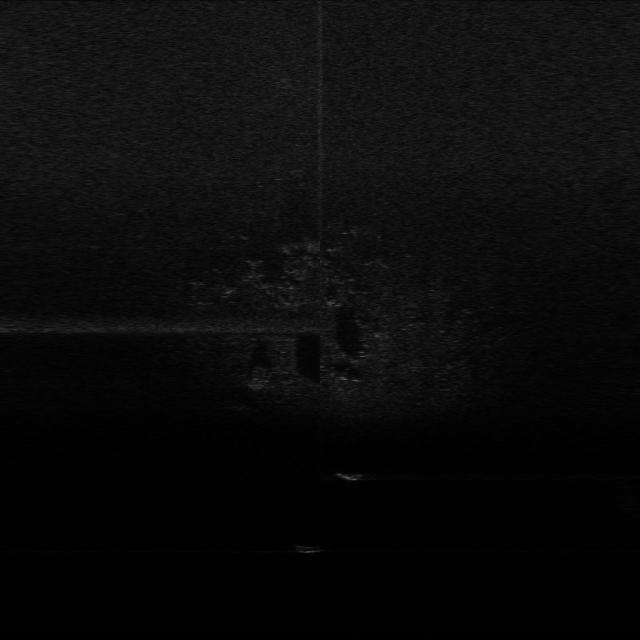cube: (291, 536, 333, 558)
square cage: (333, 460, 373, 486)
